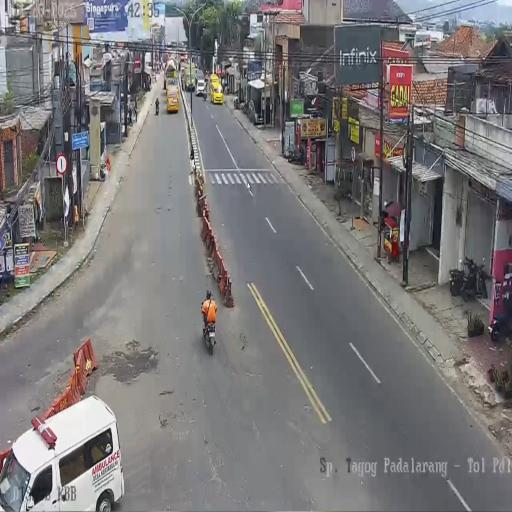car: (210, 74, 224, 105), (166, 84, 179, 113), (195, 78, 206, 98)
motorcycle: (489, 286, 512, 343), (460, 254, 485, 300), (202, 303, 217, 355), (285, 144, 305, 165)
truck: (184, 64, 197, 92)
